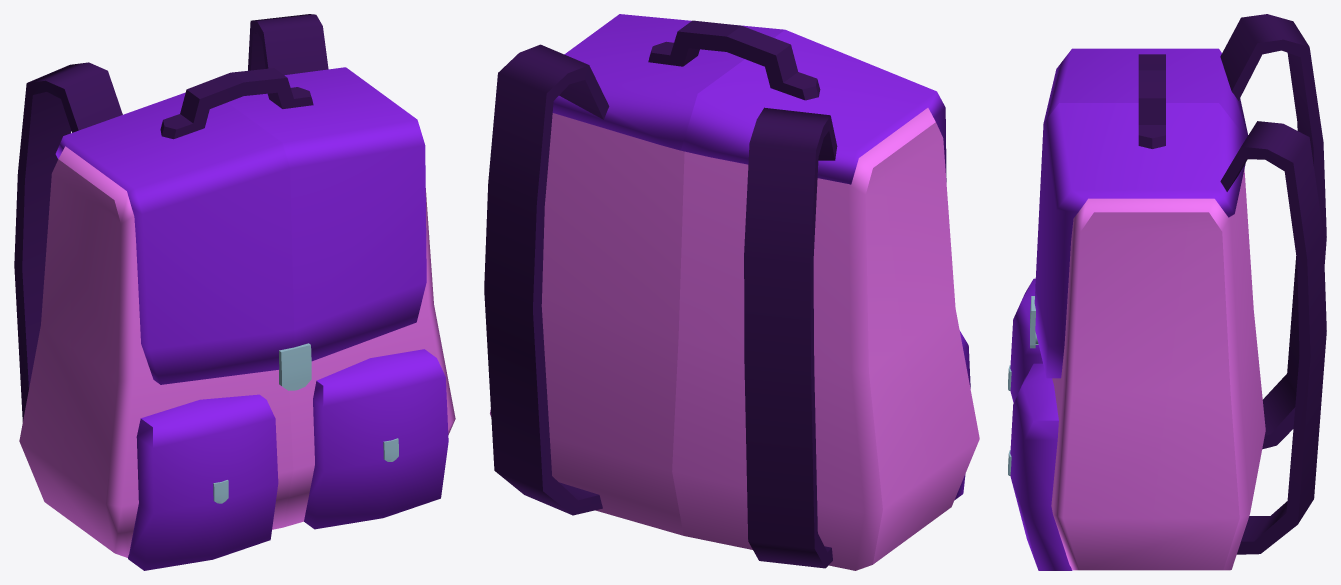
File: backpack.fbx
3 views of the same model, side by side, from view 1: azimuth 30°, elevation 25°; view 2: azimuth 150°, elevation 25°; view 3: azimuth 270°, elevation 25° (orthographic). The views are drawn at different scales.
Visible parts, largest first — view 1: backpack:backpack_0; view 2: backpack:backpack_0; view 3: backpack:backpack_0.
Boxes of the visible parts, x1=… form: backpack:backpack_0: x1=14, y1=14, x2=455, y2=570; backpack:backpack_0: x1=484, y1=14, x2=979, y2=570; backpack:backpack_0: x1=1008, y1=14, x2=1326, y2=570.
Bounding box in the file's own units: 1.04 × 1.18 × 0.7983.
